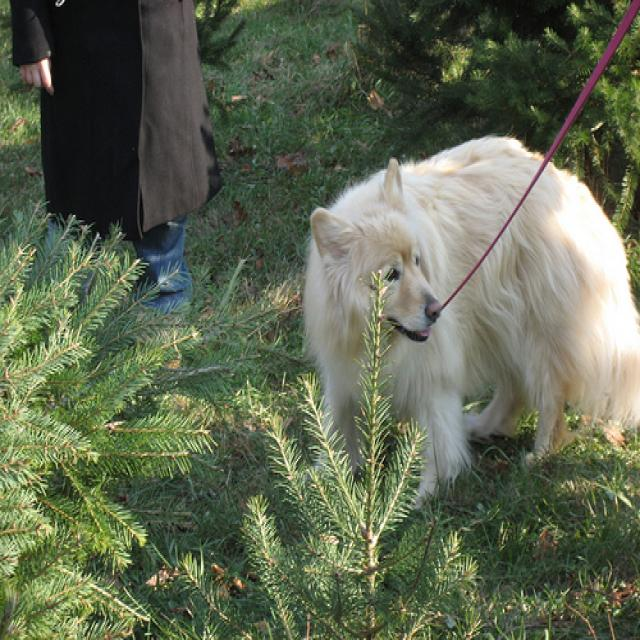dog-samoyed: (285, 128, 637, 497)
